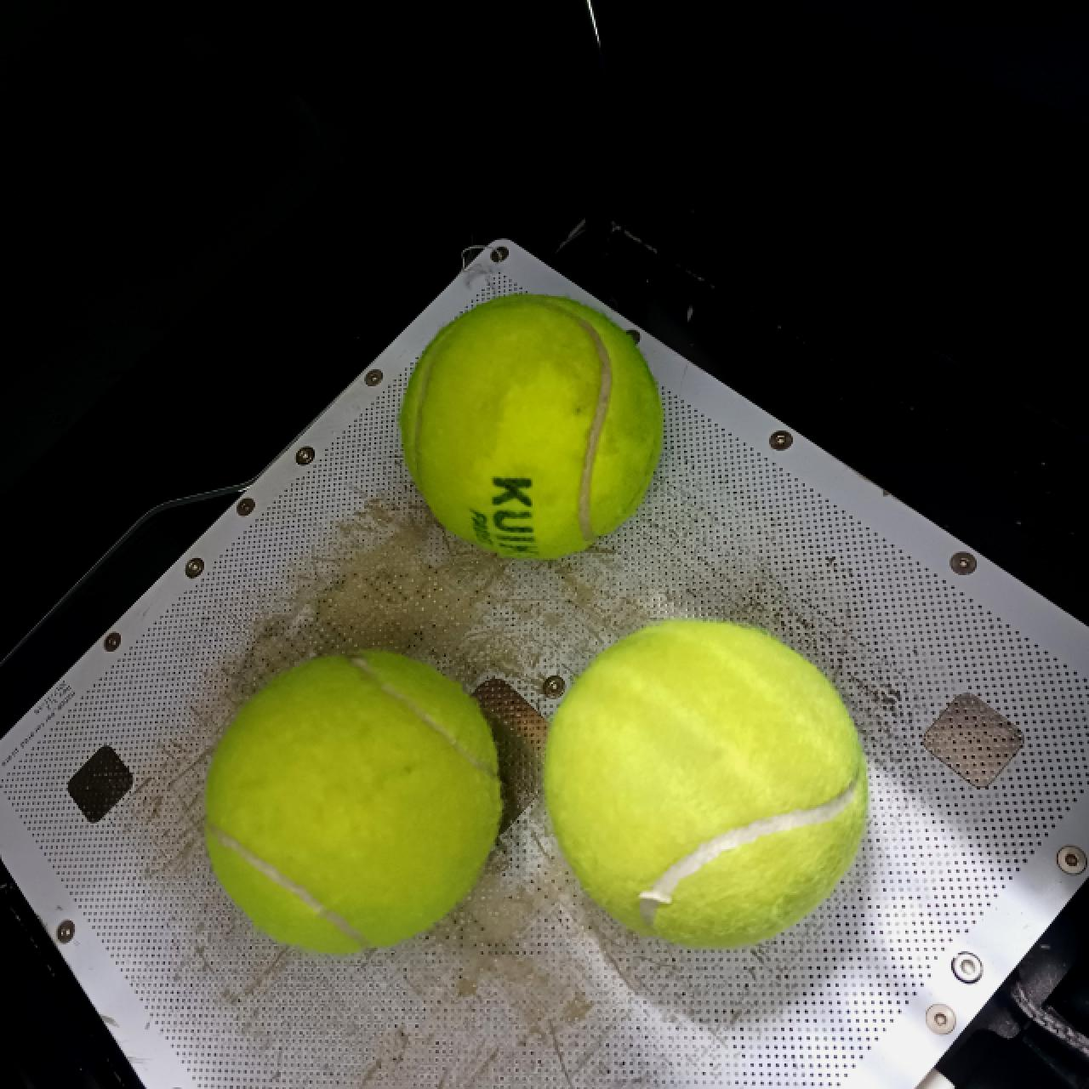tennis-ball: (538, 620, 866, 953), (203, 653, 504, 959), (398, 294, 665, 560)
